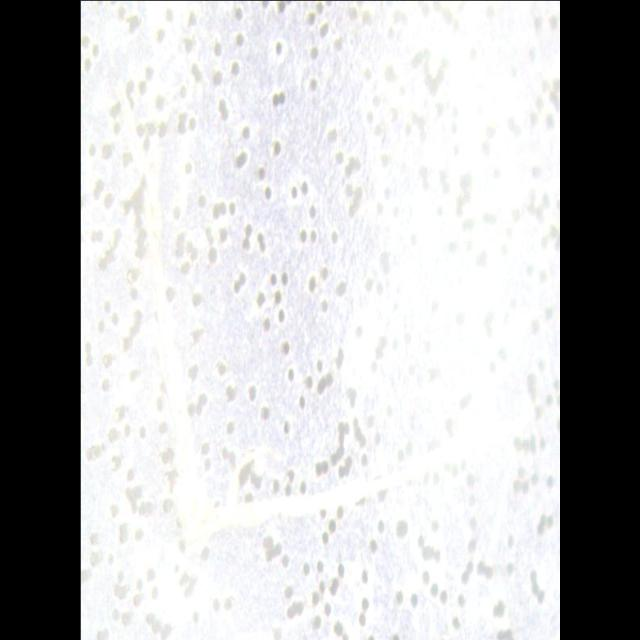Fibre: (115, 73, 528, 547)
